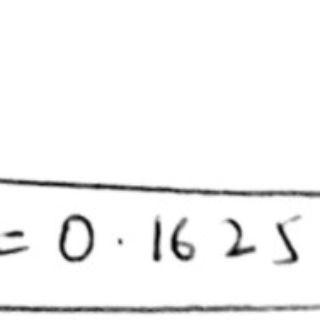.: (114, 235, 126, 247)
0: (56, 208, 97, 264)
1: (149, 211, 164, 264)
2: (221, 214, 258, 261)
5: (270, 214, 307, 267)
6: (167, 216, 200, 263)
